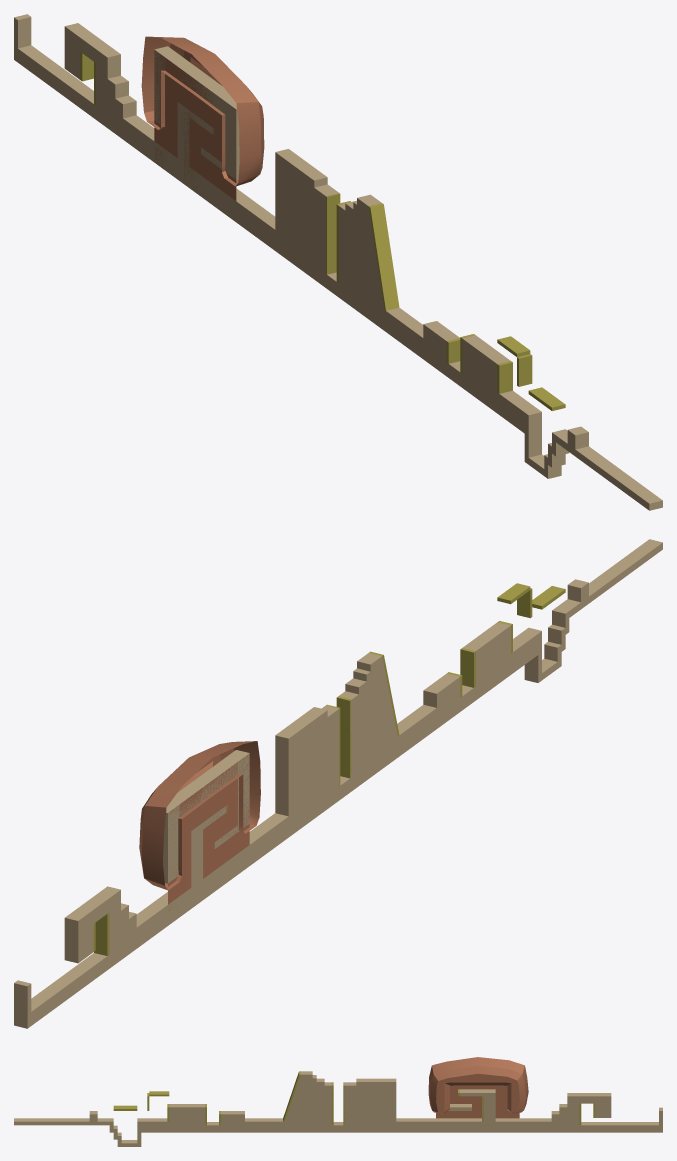
3 views of the same model, one above another, from view 1: azimuth 30°, elevation 25°; view 2: azimuth 150°, elevation 25°; view 3: azimuth 270°, elevation 25° (orthographic). The views are drawn at different scales.
Visible parts, largest first — view 1: polySurface38, pCube5, polySurface28, polySurface27, polySurface13, polySurface6, polySurface14, pCube11, polySurface18, polySurface15, polySurface19, polySurface25 (+13 smaller); view 2: polySurface38, pCube5, polySurface27, polySurface28, polySurface13, polySurface6, polySurface18, polySurface14, polySurface34, polySurface15, polySurface11, polySurface16 (+10 smaller); view 3: polySurface38, polySurface28, polySurface27, pCube5, polySurface13, polySurface14, polySurface18, polySurface6, polySurface25, polySurface15, polySurface19, polySurface20 (+13 smaller).
Boxes of the visible parts, bbox=[...] form: polySurface38: bbox=[141, 36, 264, 186]; pCube5: bbox=[154, 51, 236, 200]; polySurface28: bbox=[123, 115, 275, 250]; polySurface27: bbox=[275, 159, 314, 279]; polySurface13: bbox=[14, 14, 122, 139]; polySurface6: bbox=[556, 432, 662, 510]; polySurface14: bbox=[462, 367, 537, 433]; pCube11: bbox=[369, 203, 399, 310]; polySurface18: bbox=[357, 194, 381, 318]; polySurface15: bbox=[462, 335, 510, 391]; polySurface19: bbox=[384, 307, 423, 358]; polySurface25: bbox=[314, 184, 338, 287]; polySurface38: bbox=[139, 741, 260, 890]; pCube5: bbox=[168, 754, 249, 909]; polySurface27: bbox=[275, 717, 327, 837]; polySurface28: bbox=[136, 813, 288, 948]; polySurface13: bbox=[14, 928, 136, 1028]; polySurface6: bbox=[556, 539, 662, 617]; polySurface18: bbox=[357, 653, 382, 777]; polySurface14: bbox=[476, 630, 538, 700]; polySurface34: bbox=[64, 906, 93, 963]; polySurface15: bbox=[462, 622, 510, 678]; polySurface11: bbox=[171, 758, 237, 816]; polySurface16: bbox=[423, 673, 460, 728]; polySurface38: bbox=[428, 1057, 528, 1113]; polySurface28: bbox=[396, 1118, 551, 1132]; polySurface27: bbox=[356, 1085, 396, 1132]; pCube5: bbox=[436, 1085, 519, 1118]; polySurface13: bbox=[551, 1107, 662, 1132]; polySurface14: bbox=[141, 1118, 204, 1132]; polySurface18: bbox=[300, 1071, 312, 1132]; polySurface6: bbox=[14, 1118, 109, 1125]; polySurface25: bbox=[344, 1082, 356, 1132]; polySurface15: bbox=[169, 1104, 204, 1121]; polySurface19: bbox=[245, 1118, 284, 1132]; polySurface20: bbox=[284, 1075, 300, 1132].
Bounding box in the file's own units: 47.36 × 237 × 1630.
